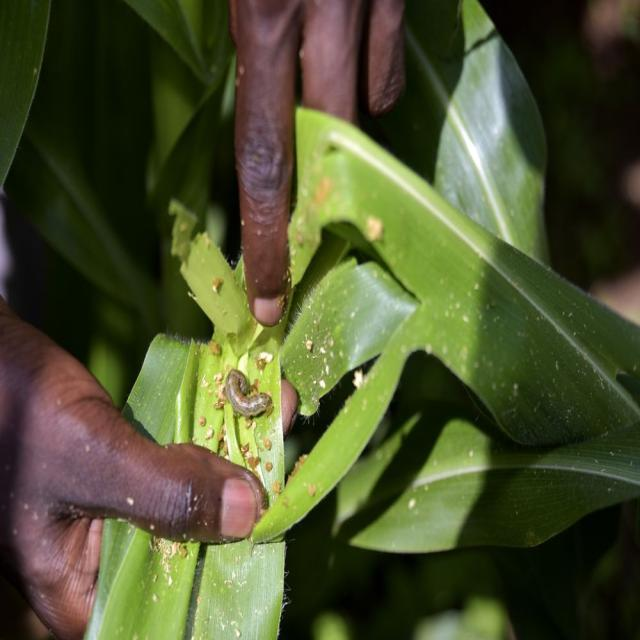Fall-armyworm: (225, 370, 277, 424)
